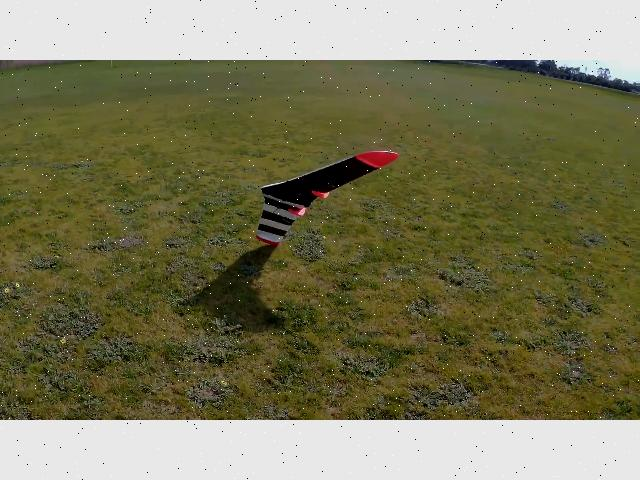Anti-Drone: (232, 140, 428, 253)
